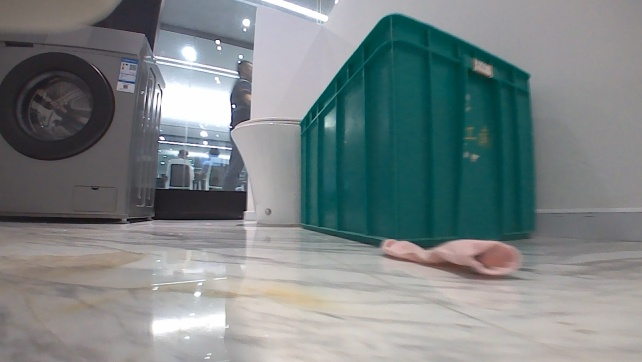socks: (377, 235, 525, 277)
toilet: (227, 114, 303, 228)
washing_machine: (0, 20, 167, 225)
